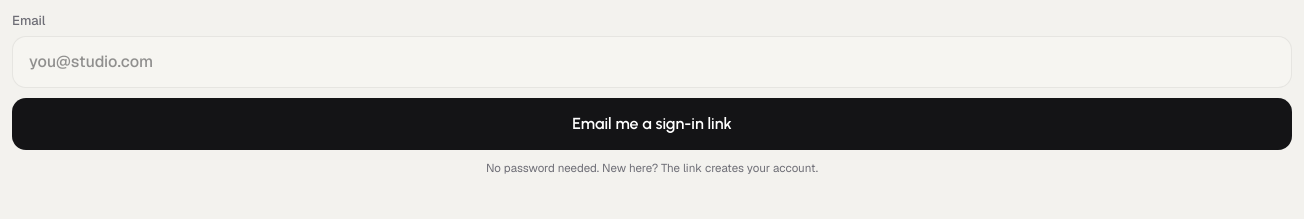
it: SignInForm › explains an invalid email instead of sending a link
The width and height of the screenshot is (1304, 219).
Type "sean@" into the field labelled "Email" at (652, 62), box top-left (12, 36), bottom-right (1292, 88)
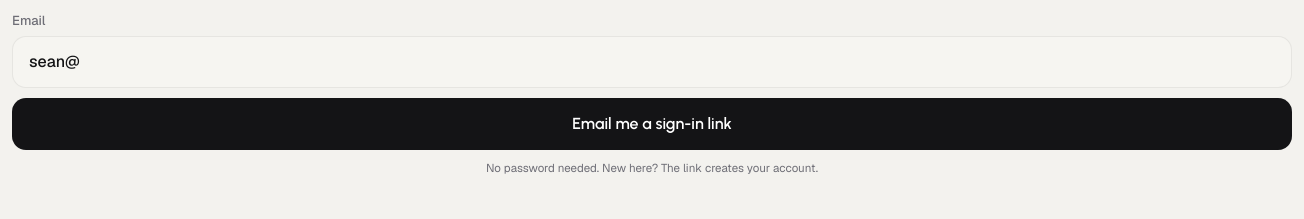
Click the button "Email me a sign-in link" at (652, 124), box top-left (12, 98), bottom-right (1292, 150)
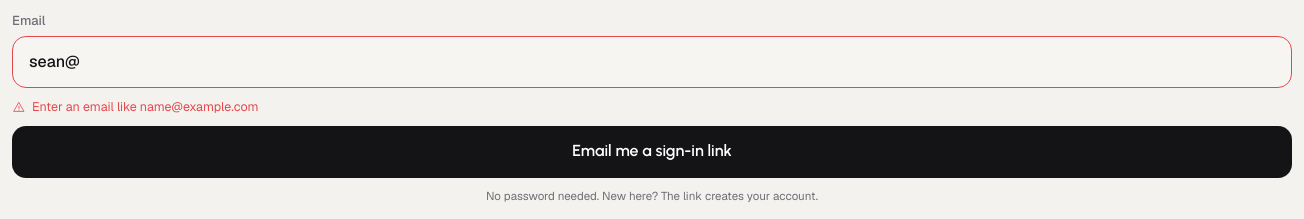
Now the message reads "Enter an email like name@example.com", box top-left (32, 98), bottom-right (258, 115)
